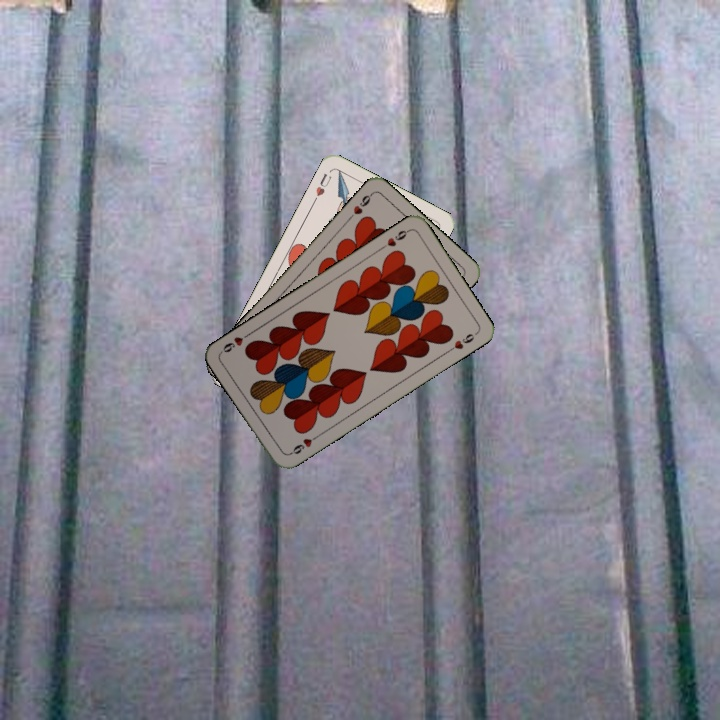H9: (344, 189, 375, 222), (376, 225, 412, 252), (285, 431, 321, 458)
HU: (309, 169, 334, 205)
